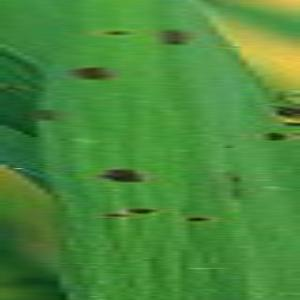Brown_Spot: (90, 160, 152, 190), (60, 60, 119, 87), (152, 21, 196, 56), (89, 23, 144, 42), (252, 124, 293, 149), (34, 103, 61, 128), (124, 203, 160, 219), (179, 212, 222, 225), (262, 226, 284, 249), (226, 184, 250, 203), (100, 210, 131, 223), (216, 138, 238, 152), (227, 173, 245, 184), (56, 134, 68, 144)
